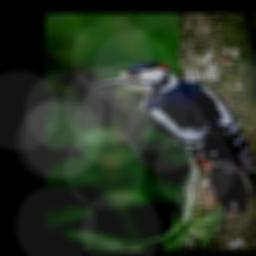Woodpecker: (91, 61, 256, 212)
